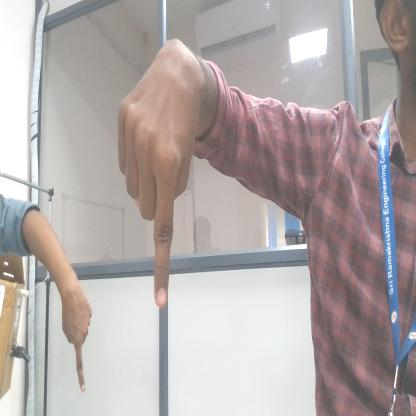Down: (112, 17, 204, 318), (53, 284, 108, 399)
